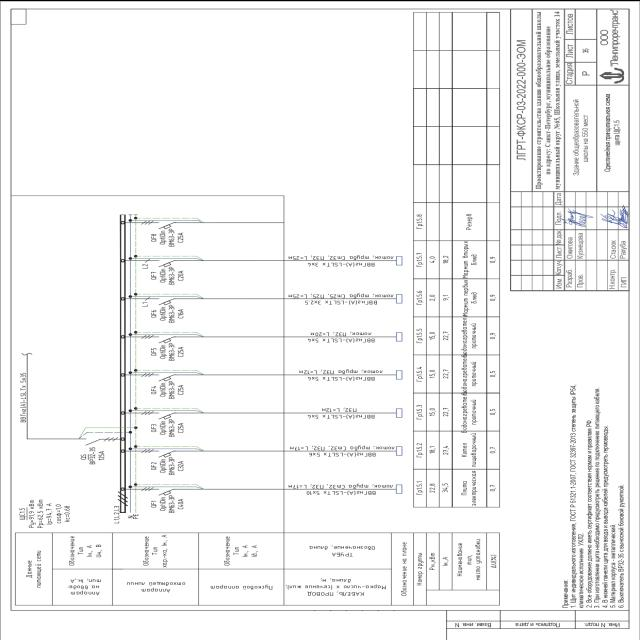-: (158, 493, 185, 514), (158, 226, 186, 246), (158, 265, 186, 285), (158, 418, 186, 438), (158, 342, 186, 362), (158, 304, 185, 324), (160, 456, 187, 476), (160, 380, 187, 400), (88, 444, 106, 464), (17, 506, 27, 520)
QF: (154, 372, 177, 382), (154, 410, 177, 420), (156, 486, 178, 496), (155, 220, 177, 230), (156, 334, 178, 344), (154, 448, 176, 458), (156, 258, 178, 267), (154, 296, 177, 304)
QS: (82, 434, 120, 445)
